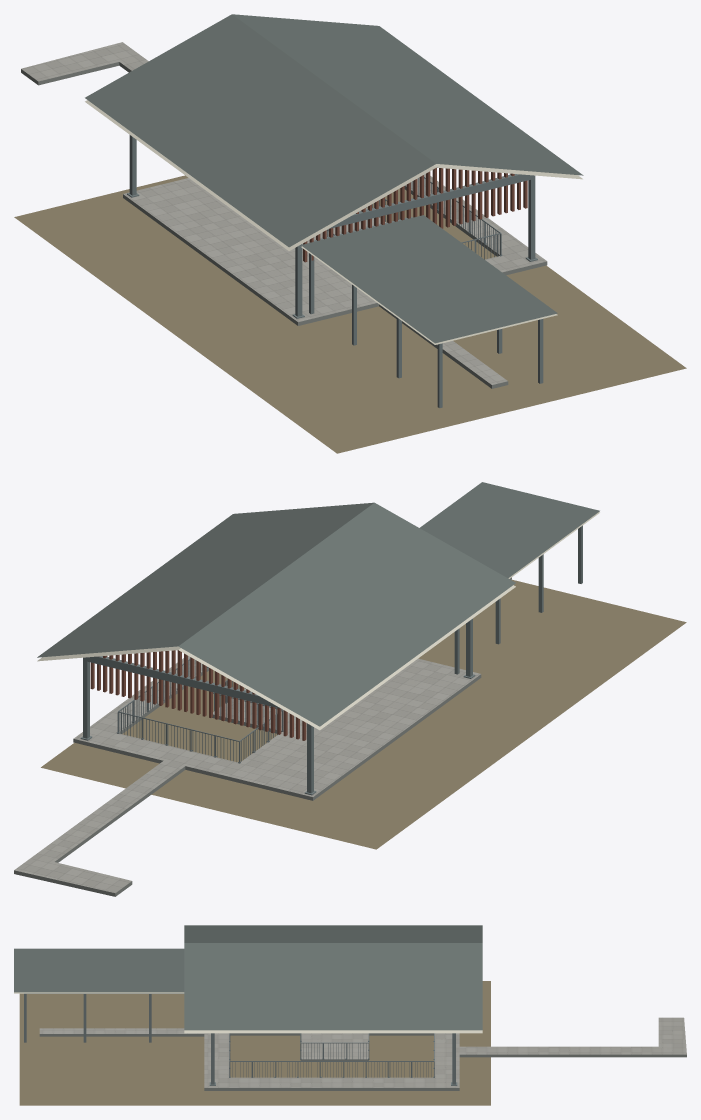
File: shangqing-east-route.glb
3 views of the same model, one above another, from view 1: azimuth 30°, elevation 25°; view 2: azimuth 150°, elevation 25°; view 3: azimuth 270°, elevation 25° (orthographic). The views are drawn at different scales.
Parts seen in each view (by area): view 1: Pavilion grey roof, Local unmodelled archaeology context, Source traced circulation deck, Gallery roof plane, Pavilion upper aluminium slats, Deck cutout edges, Pavilion soffit, Adjoining gallery column, Pavilion steel frame, Pavilion corner column, Vertical guardrail bars; view 2: Pavilion grey roof, Local unmodelled archaeology context, Source traced circulation deck, Gallery roof plane, Pavilion upper aluminium slats, Known ruin extent - details remain in photographs, Deck cutout edges, Vertical guardrail bars, Pavilion soffit, Pavilion steel frame, Pavilion corner column, Adjoining gallery column; view 3: Pavilion grey roof, Local unmodelled archaeology context, Source traced circulation deck, Gallery roof plane, Known ruin extent - details remain in photographs, Deck cutout edges, Vertical guardrail bars, Pavilion soffit, Adjoining gallery column, Pit edge handrail, Pavilion corner column, Guardrail posts (+1 smaller).
Part boxes in pixels (x1,y1,x2,y2): Pavilion grey roof: (85,14,583,247); Local unmodelled archaeology context: (14,175,686,453); Source traced circulation deck: (21,42,546,384); Gallery roof plane: (301,215,557,343); Pavilion upper aluminium slats: (303,167,527,262); Deck cutout edges: (21,62,547,388); Pavilion soffit: (85,100,582,250); Adjoining gallery column: (309,253,543,408); Pavilion steel frame: (329,174,530,228); Pavilion corner column: (129,135,535,316); Vertical guardrail bars: (327,178,499,259); Pavilion grey roof: (37,502,515,726); Local unmodelled archaeology context: (41,579,686,849); Source traced circulation deck: (14,656,480,893); Gallery roof plane: (420,482,599,578); Pavilion upper aluminium slats: (90,650,306,740); Known ruin extent - details remain in photographs: (134,674,266,762); Deck cutout edges: (14,577,511,896); Vertical guardrail bars: (119,660,277,761); Pavilion soffit: (37,585,515,730); Pavilion steel frame: (87,656,281,708); Pavilion corner column: (83,618,472,793); Adjoining gallery column: (454,525,582,674); Pavilion grey roof: (184,925,482,1030); Local unmodelled archaeology context: (19,981,490,1105); Source traced circulation deck: (39,1017,686,1087); Gallery roof plane: (14,948,184,992); Known ruin extent - details remain in photographs: (230,1044,433,1077); Deck cutout edges: (39,1033,686,1090); Vertical guardrail bars: (232,1043,431,1077); Pavilion soffit: (184,1030,482,1033); Adjoining gallery column: (24,993,151,1042); Pit edge handrail: (229,1033,434,1061); Pavilion corner column: (211,1033,455,1084); Guardrail posts: (229,1033,434,1077).
Size of the model in its own units: 17.59 by 7.27 by 39.11.
Materials: 8 (1 with a texture image).
